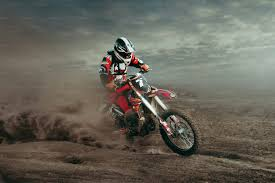motorcycle: (105, 61, 200, 156)
